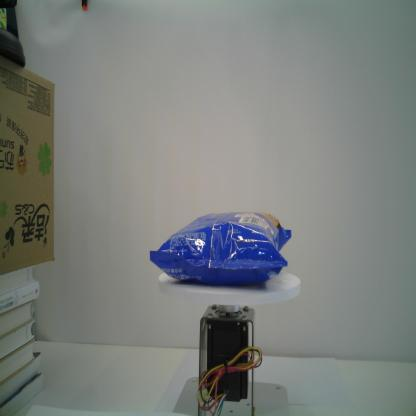Puffed Food: (148, 210, 294, 288)
